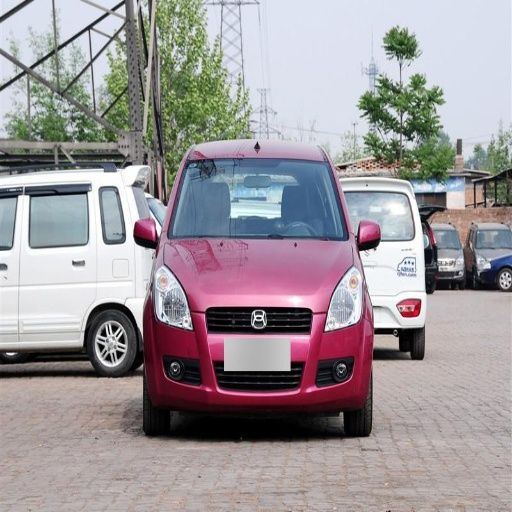front_bumper: (146, 306, 372, 411)
front_glass: (169, 160, 347, 241)
front_left_door: (2, 262, 19, 339)
front_right_light: (152, 268, 193, 331)
hood: (165, 238, 356, 311)
